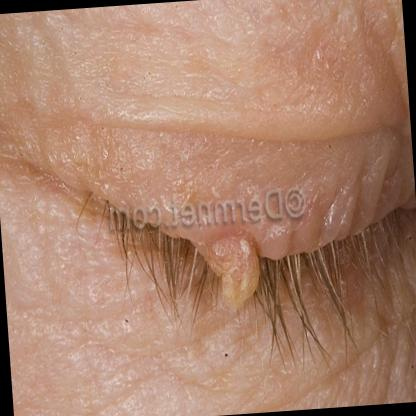Warts: (197, 217, 272, 324)
